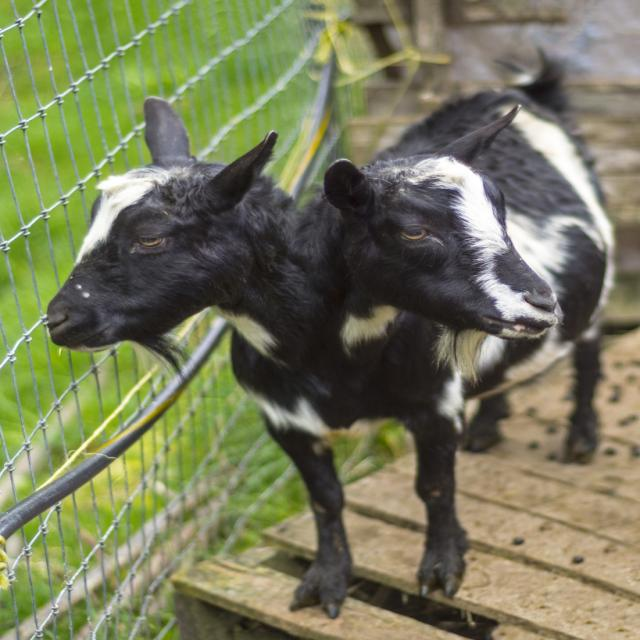Goat: (48, 98, 617, 624)
